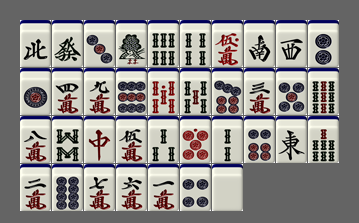0m: (212, 20, 243, 67)
0p: (180, 116, 211, 163)
0s: (148, 68, 179, 115)
1m: (148, 164, 179, 211)
1p: (20, 68, 51, 115)
1s: (116, 20, 147, 67)
1z: (276, 116, 307, 163)
2m: (20, 164, 51, 211)
2p: (308, 20, 339, 67)
2s: (212, 116, 243, 163)
2z: (244, 20, 275, 67)
3m: (244, 68, 275, 115)
3p: (84, 20, 115, 67)
3s: (148, 116, 179, 163)
3z: (276, 20, 307, 67)
4m: (52, 68, 83, 115)
4p: (180, 164, 211, 211)
4s: (180, 20, 211, 67)
4z: (20, 20, 51, 67)
5m: (116, 116, 147, 163)
5p: (276, 68, 307, 115)
5s: (180, 68, 211, 115)
5z: (212, 164, 243, 211)
6m: (116, 164, 147, 211)
6p: (244, 116, 275, 163)
6s: (148, 20, 179, 67)
6z: (52, 20, 83, 67)
7m: (84, 164, 115, 211)
7p: (212, 68, 243, 115)
7s: (308, 116, 339, 163)
7z: (84, 116, 115, 163)
8m: (20, 116, 51, 163)
8p: (52, 164, 83, 211)
8s: (52, 116, 83, 163)
9m: (84, 68, 115, 115)
9p: (116, 68, 147, 115)
9s: (308, 68, 339, 115)
